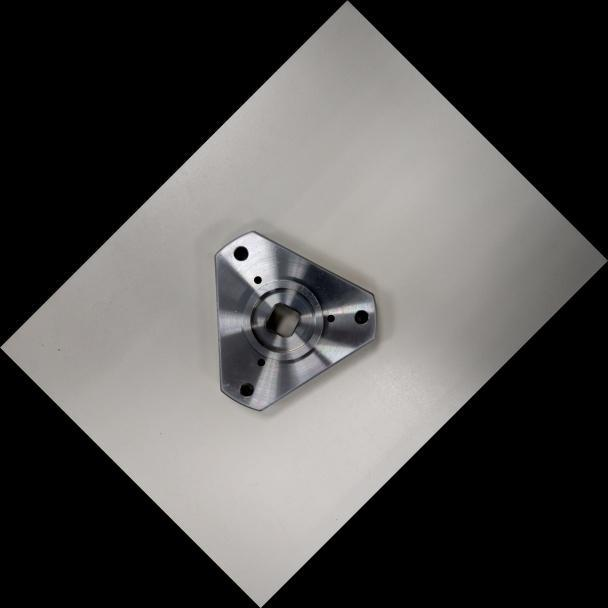hole: (232, 374, 260, 403), (226, 238, 254, 266), (347, 303, 374, 330), (252, 352, 271, 371), (249, 271, 265, 287), (322, 310, 337, 326)
